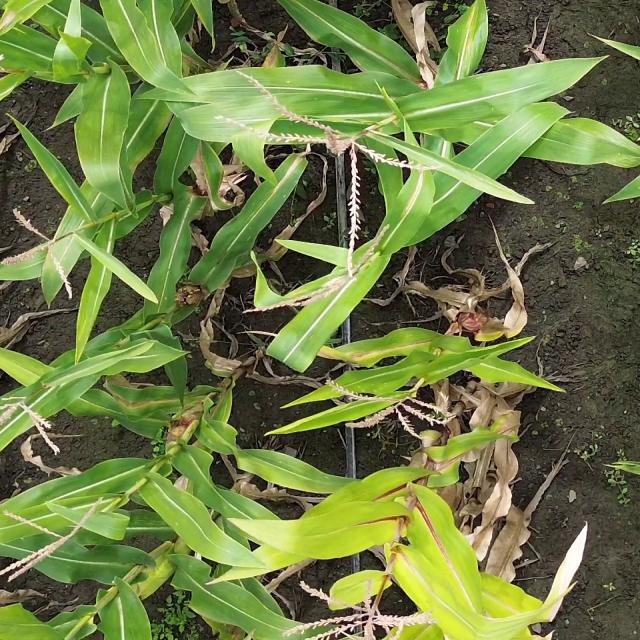gray-leaf-spot: (587, 124, 640, 168), (452, 33, 480, 77), (129, 512, 176, 534)
northern-leaf-blight: (429, 446, 495, 486), (265, 151, 310, 204), (397, 167, 435, 229), (117, 384, 193, 413), (342, 343, 442, 363)
southern-leaf-blight: (354, 377, 403, 401)
